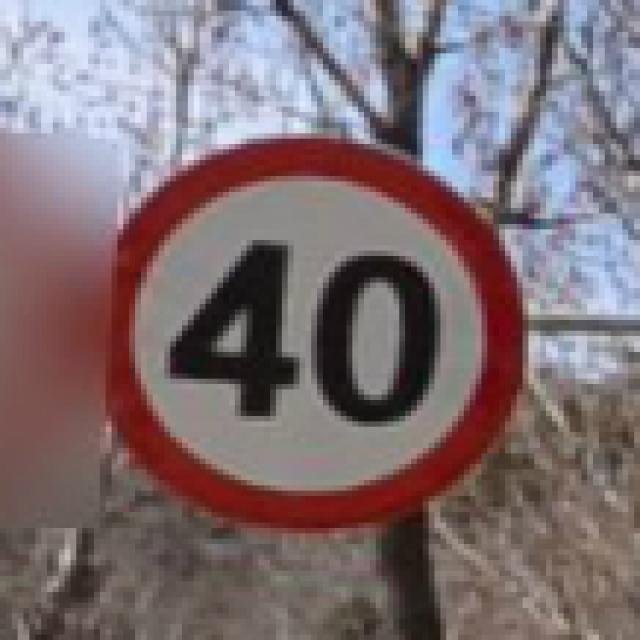Speed: (118, 133, 531, 524)
